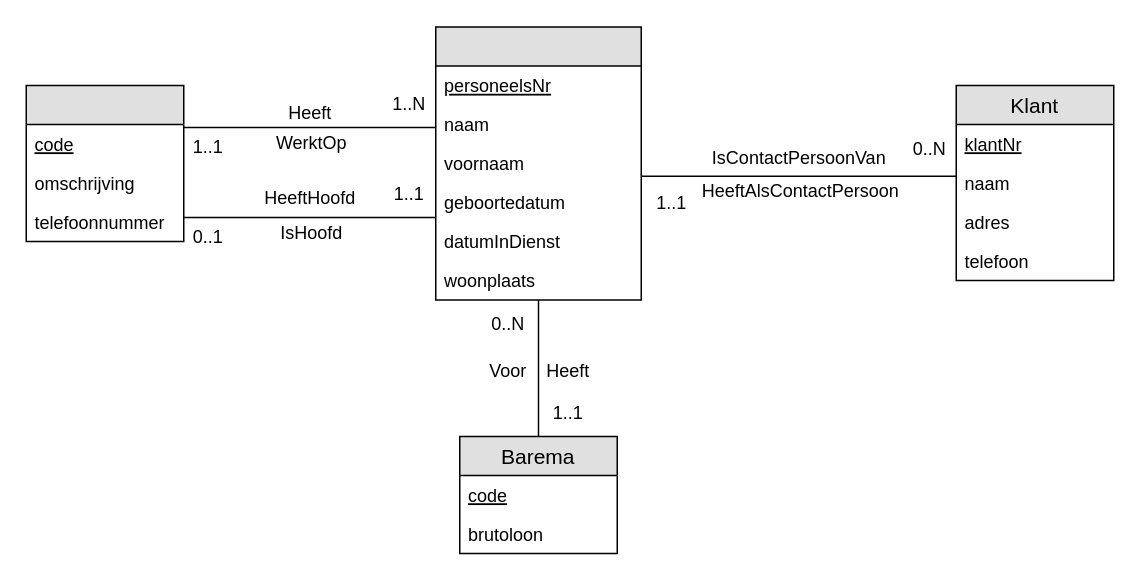
The diagram is 1140 pixels wide and 584 high, and some of its shapes have lost their labels. Here are the shapes that lost their labels. From the top down, the box of each, then its label:
(25, 84, 184, 242): Afdeling
(434, 26, 641, 300): Personeelslid
